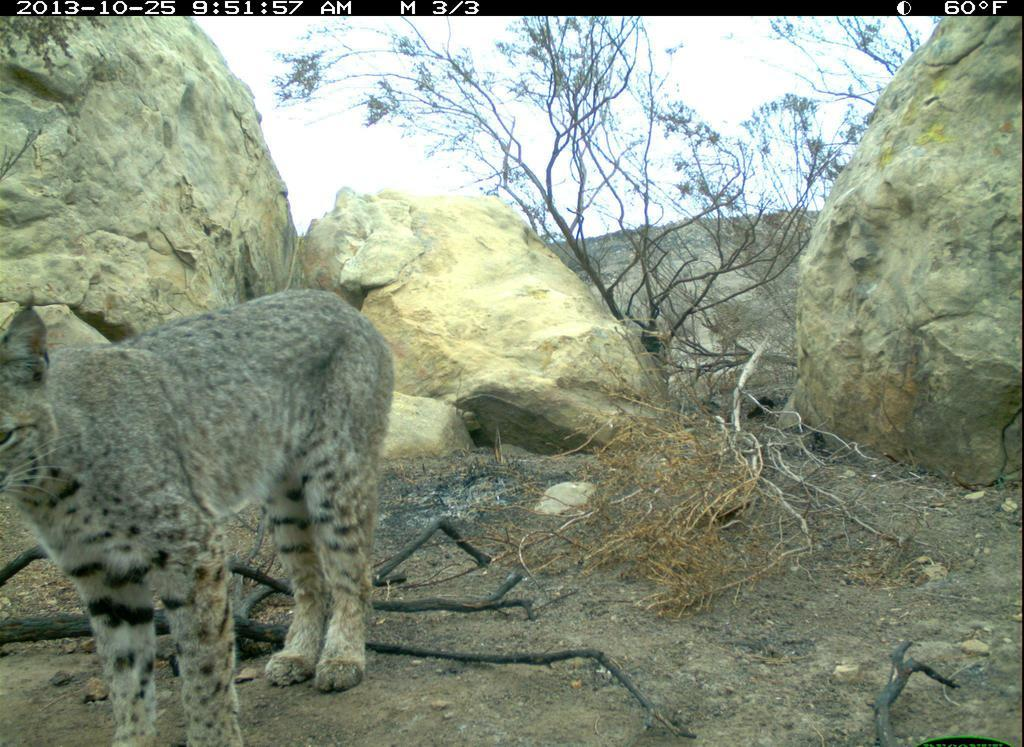bobcat: (3, 265, 397, 747)
